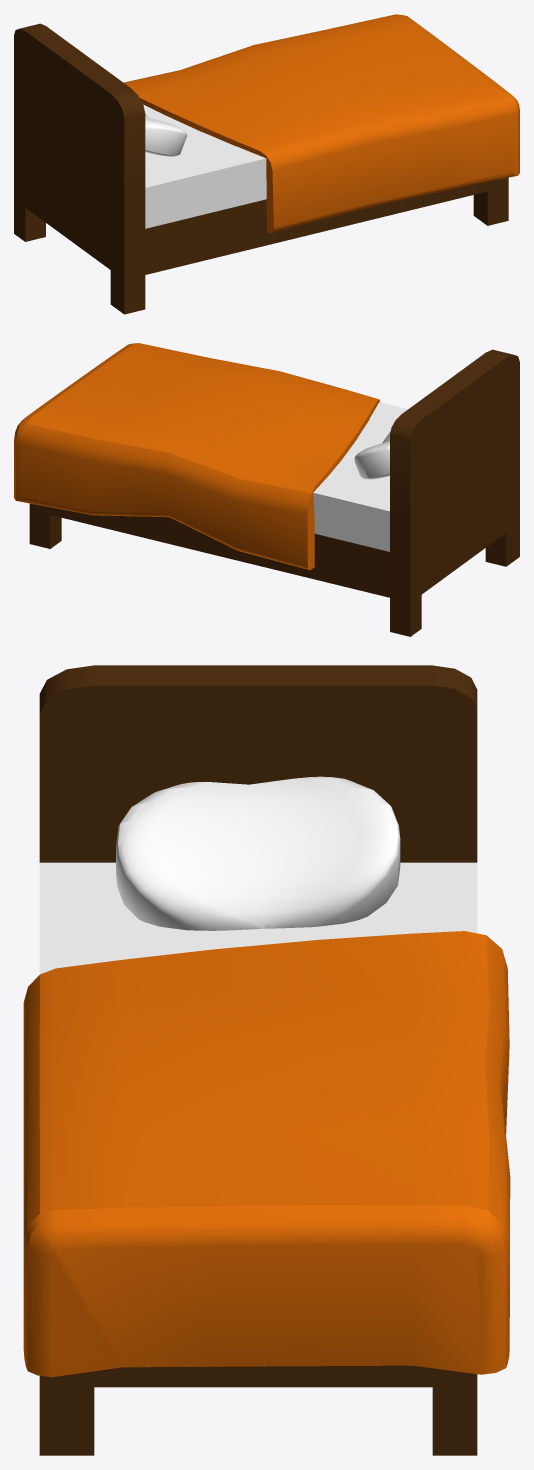
The model's file is Bed.fbx.
3 views of the same model, one above another, from view 1: azimuth 30°, elevation 25°; view 2: azimuth 150°, elevation 25°; view 3: azimuth 270°, elevation 25° (orthographic). The views are drawn at different scales.
Visible parts, largest first — view 1: Cube; view 2: Cube; view 3: Cube.
Part boxes in pixels (bbox=[...]): Cube: bbox=[14, 14, 519, 314]; Cube: bbox=[14, 343, 519, 636]; Cube: bbox=[23, 665, 510, 1455].
Bounding box in the file's own units: 657 × 334 × 352.
